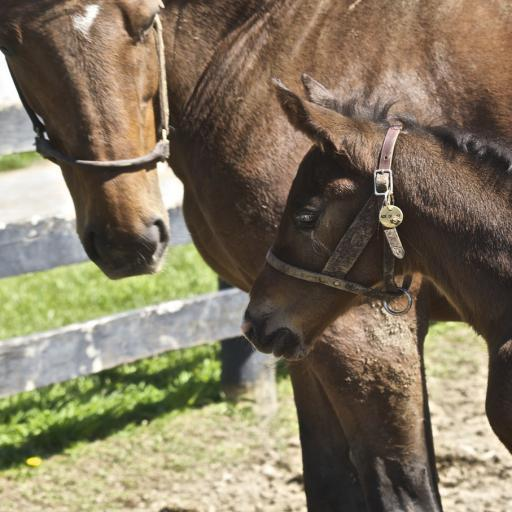horse: (0, 0, 512, 512), (238, 68, 512, 454)
